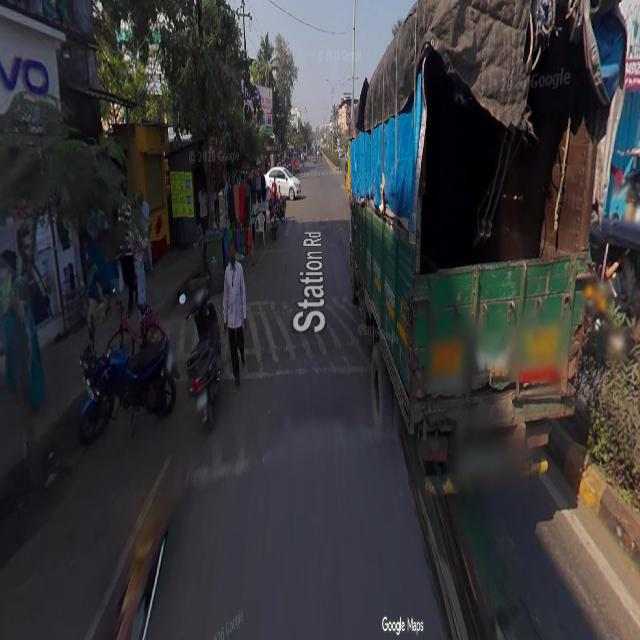illegalparking: (176, 274, 222, 462)
